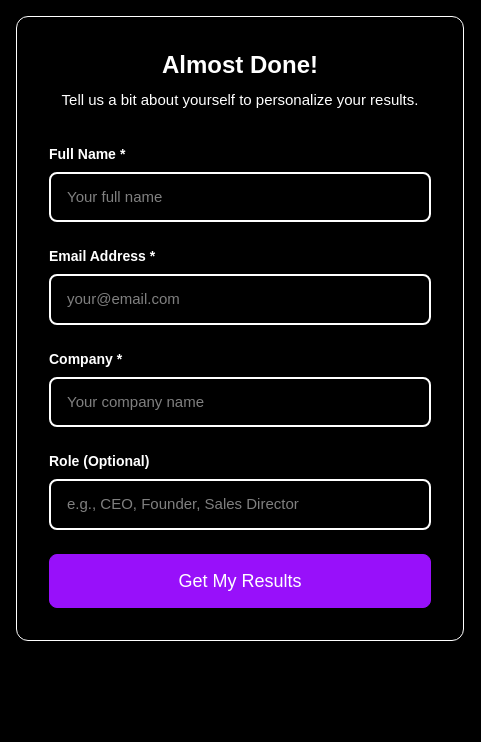
Test: FormComponents › ProductInputForm Component › Form Validation › validates email format in user info form
The width and height of the screenshot is (481, 742).
Type "invalid-email" into the field labelled "Email Address*" at (240, 299), box [49, 274, 431, 324]
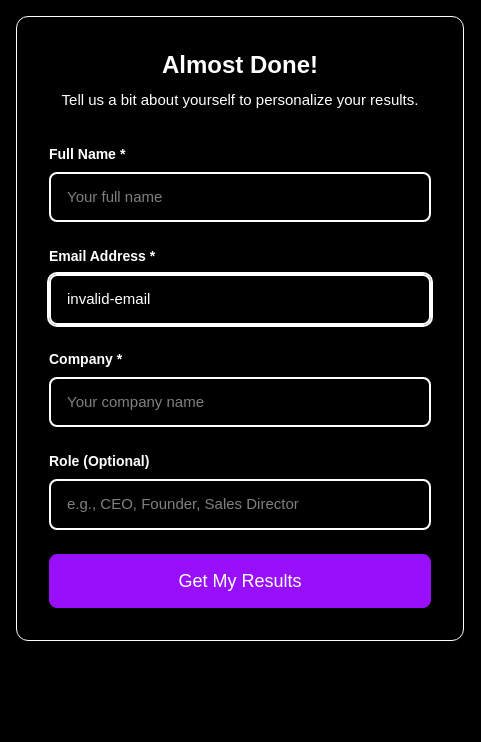
# Submit the form directly to trigger validation
Submit the form, box [49, 144, 431, 608]
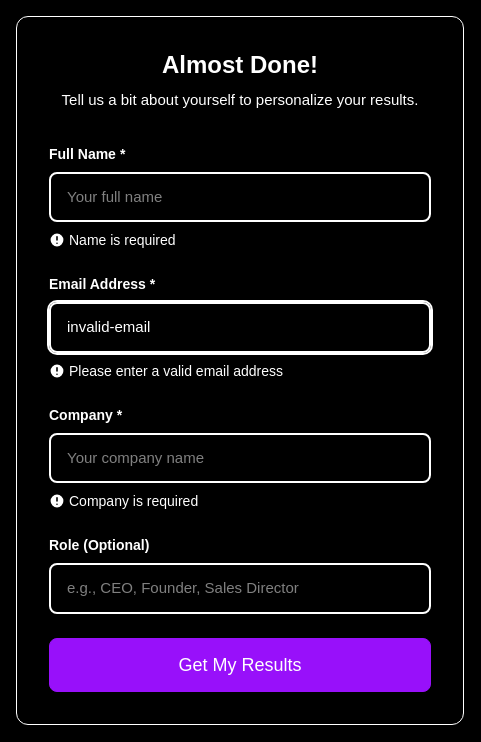
expect the text "Please enter a valid email address" is shown: met, box [49, 362, 283, 378]
